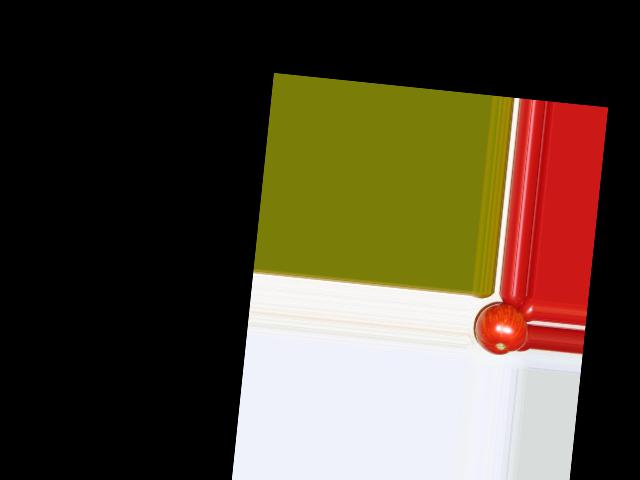tomato: (472, 300, 530, 358)
